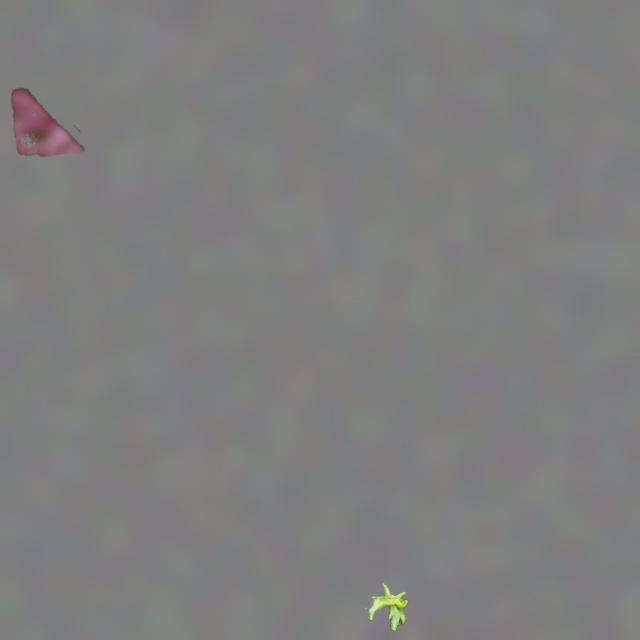cape flower: (11, 88, 83, 156)
ylang-ylang: (365, 584, 407, 630)
